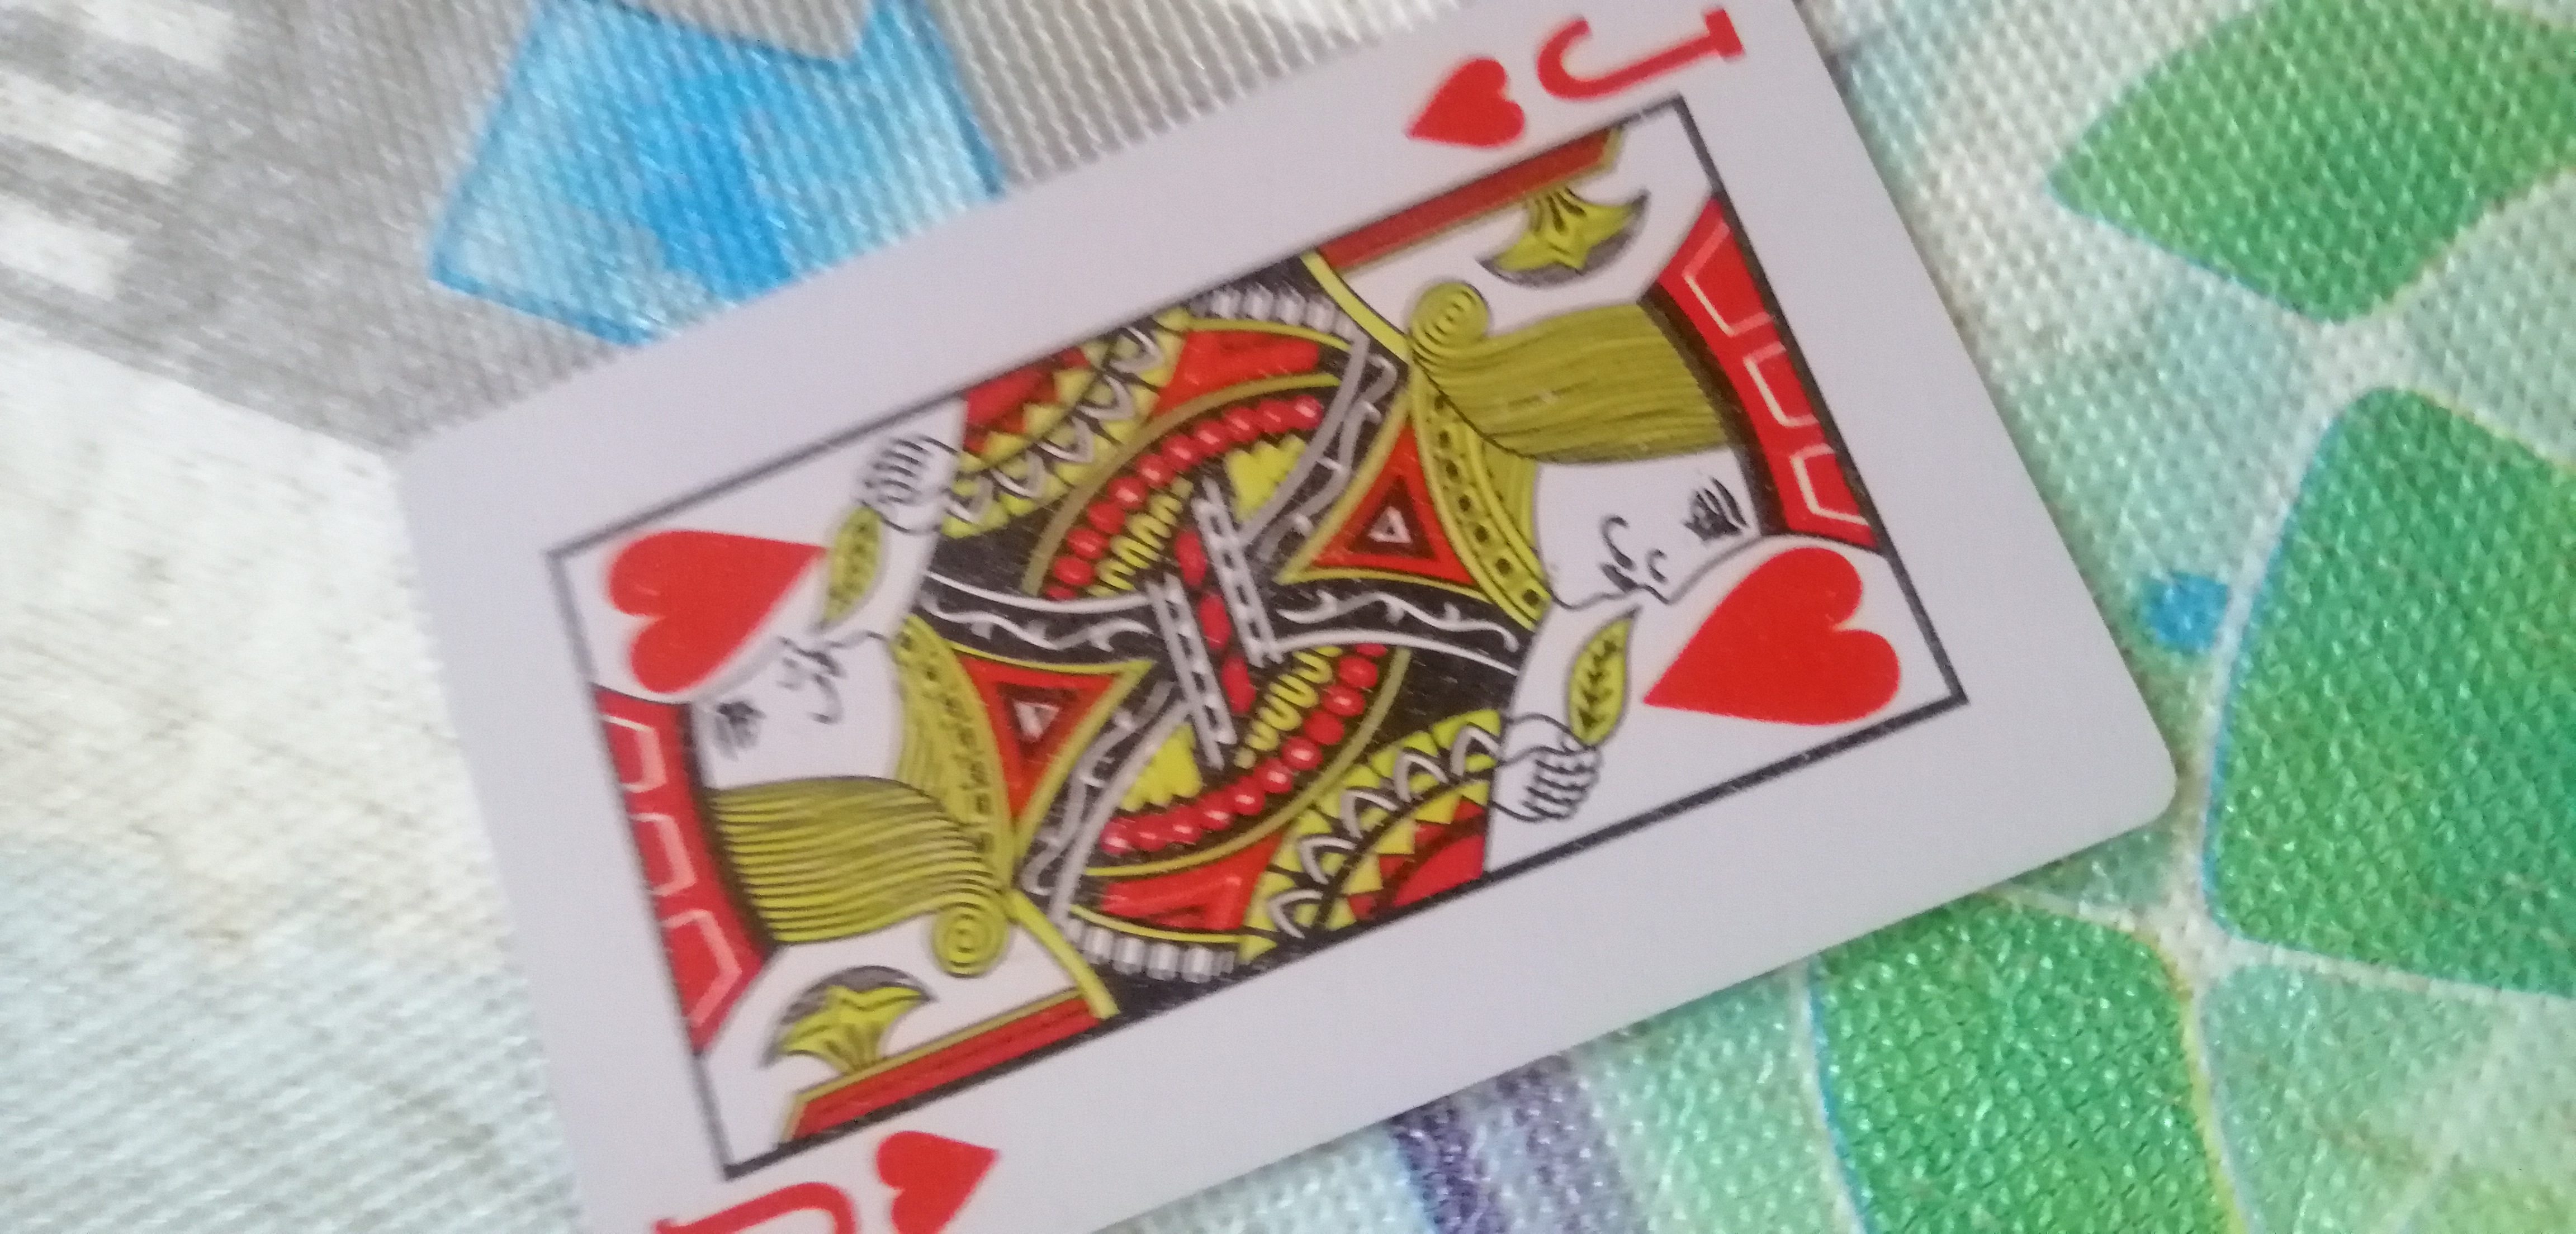jack: (345, 30, 2195, 1234)
